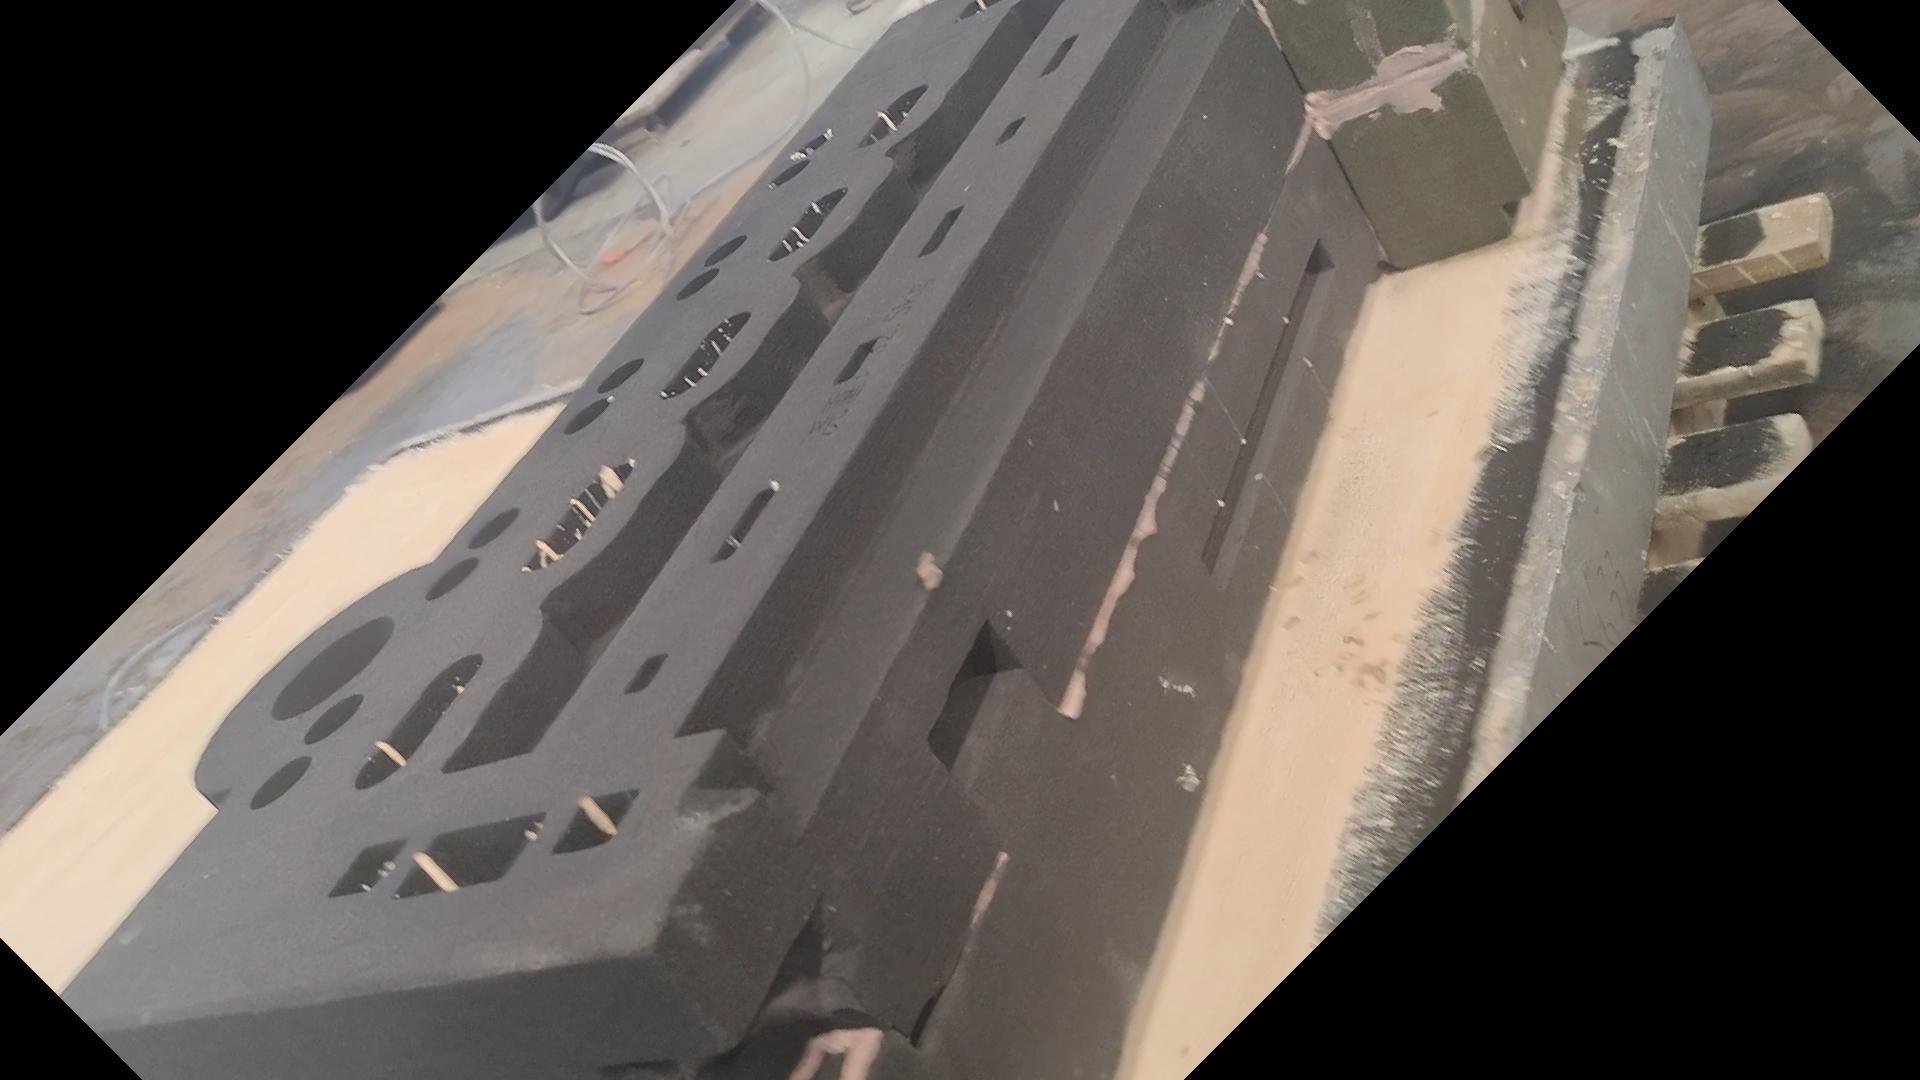pouring hole: (268, 615, 396, 720)
